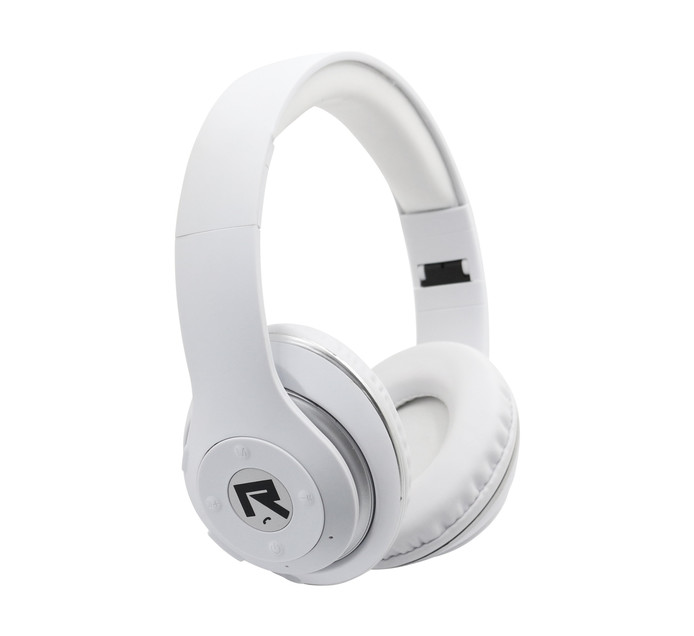Headphone: (159, 37, 541, 601)
